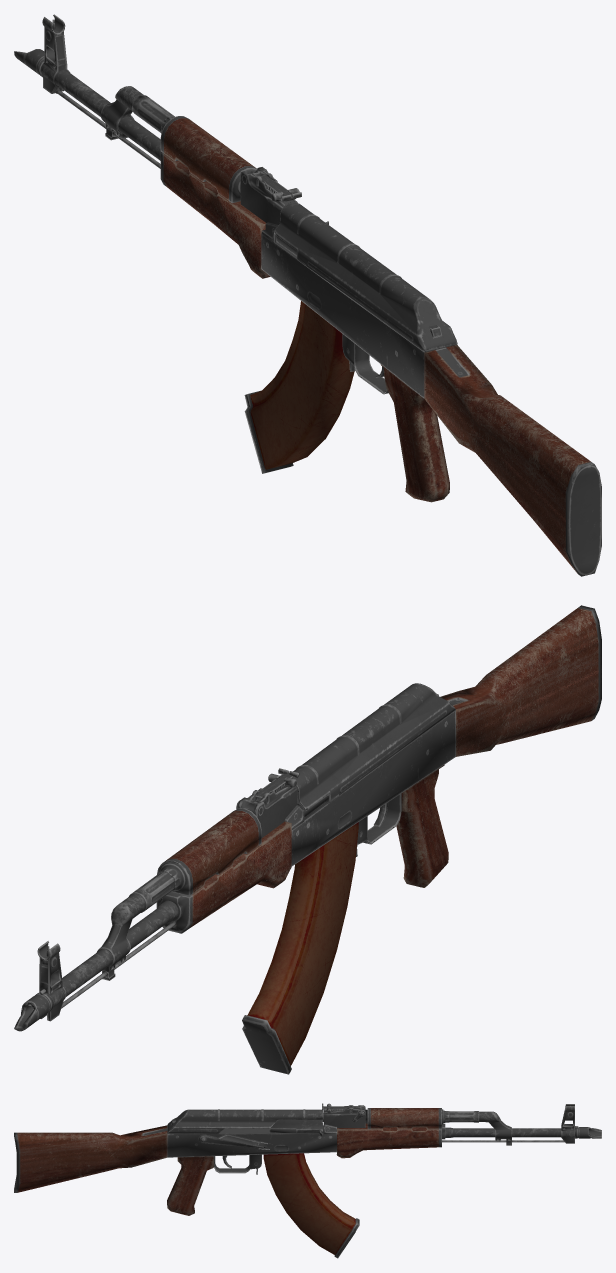
The model's file is weapon.fbx.
3 views of the same model, one above another, from view 1: azimuth 30°, elevation 25°; view 2: azimuth 150°, elevation 25°; view 3: azimuth 270°, elevation 25° (orthographic). The views are drawn at different scales.
Parts seen in each view (by area): view 1: AKM; view 2: AKM; view 3: AKM.
Boxes of the visible parts, x1,y1,x2,y2 form: AKM: (14,14,601,576); AKM: (14,605,601,1074); AKM: (14,1103,601,1258).
Bounding box in the file's own units: 5.41 × 27.38 × 97.23.
